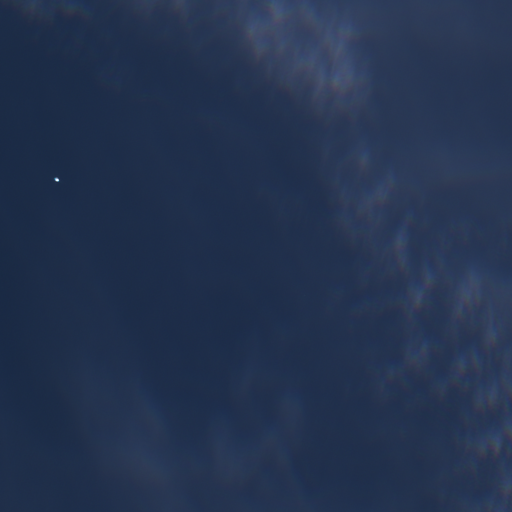Iceberg: (54, 177, 59, 181)
